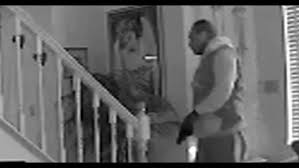gun: (175, 108, 202, 147)
